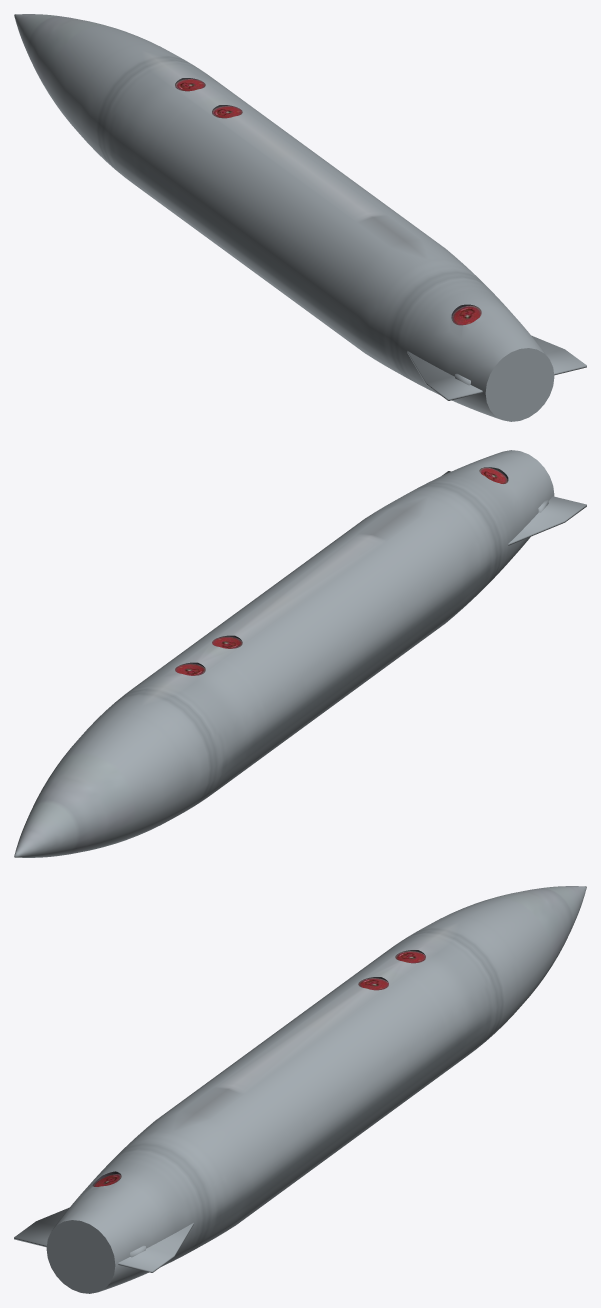
Rendered from f16ftk.glb.
3 views of the same model, one above another, from view 1: azimuth 30°, elevation 25°; view 2: azimuth 150°, elevation 25°; view 3: azimuth 330°, elevation 25° (orthographic).
Parts seen in each view (by area): view 1: f16ftk_body; view 2: f16ftk_body; view 3: f16ftk_body.
Boxes of the visible parts, bbox=[...] form: f16ftk_body: bbox=[14, 14, 586, 421]; f16ftk_body: bbox=[14, 450, 586, 857]; f16ftk_body: bbox=[14, 886, 586, 1293].
Bounding box in the file's own units: 0.8654 × 0.7164 × 5.48.
1 material, 1 textured.
